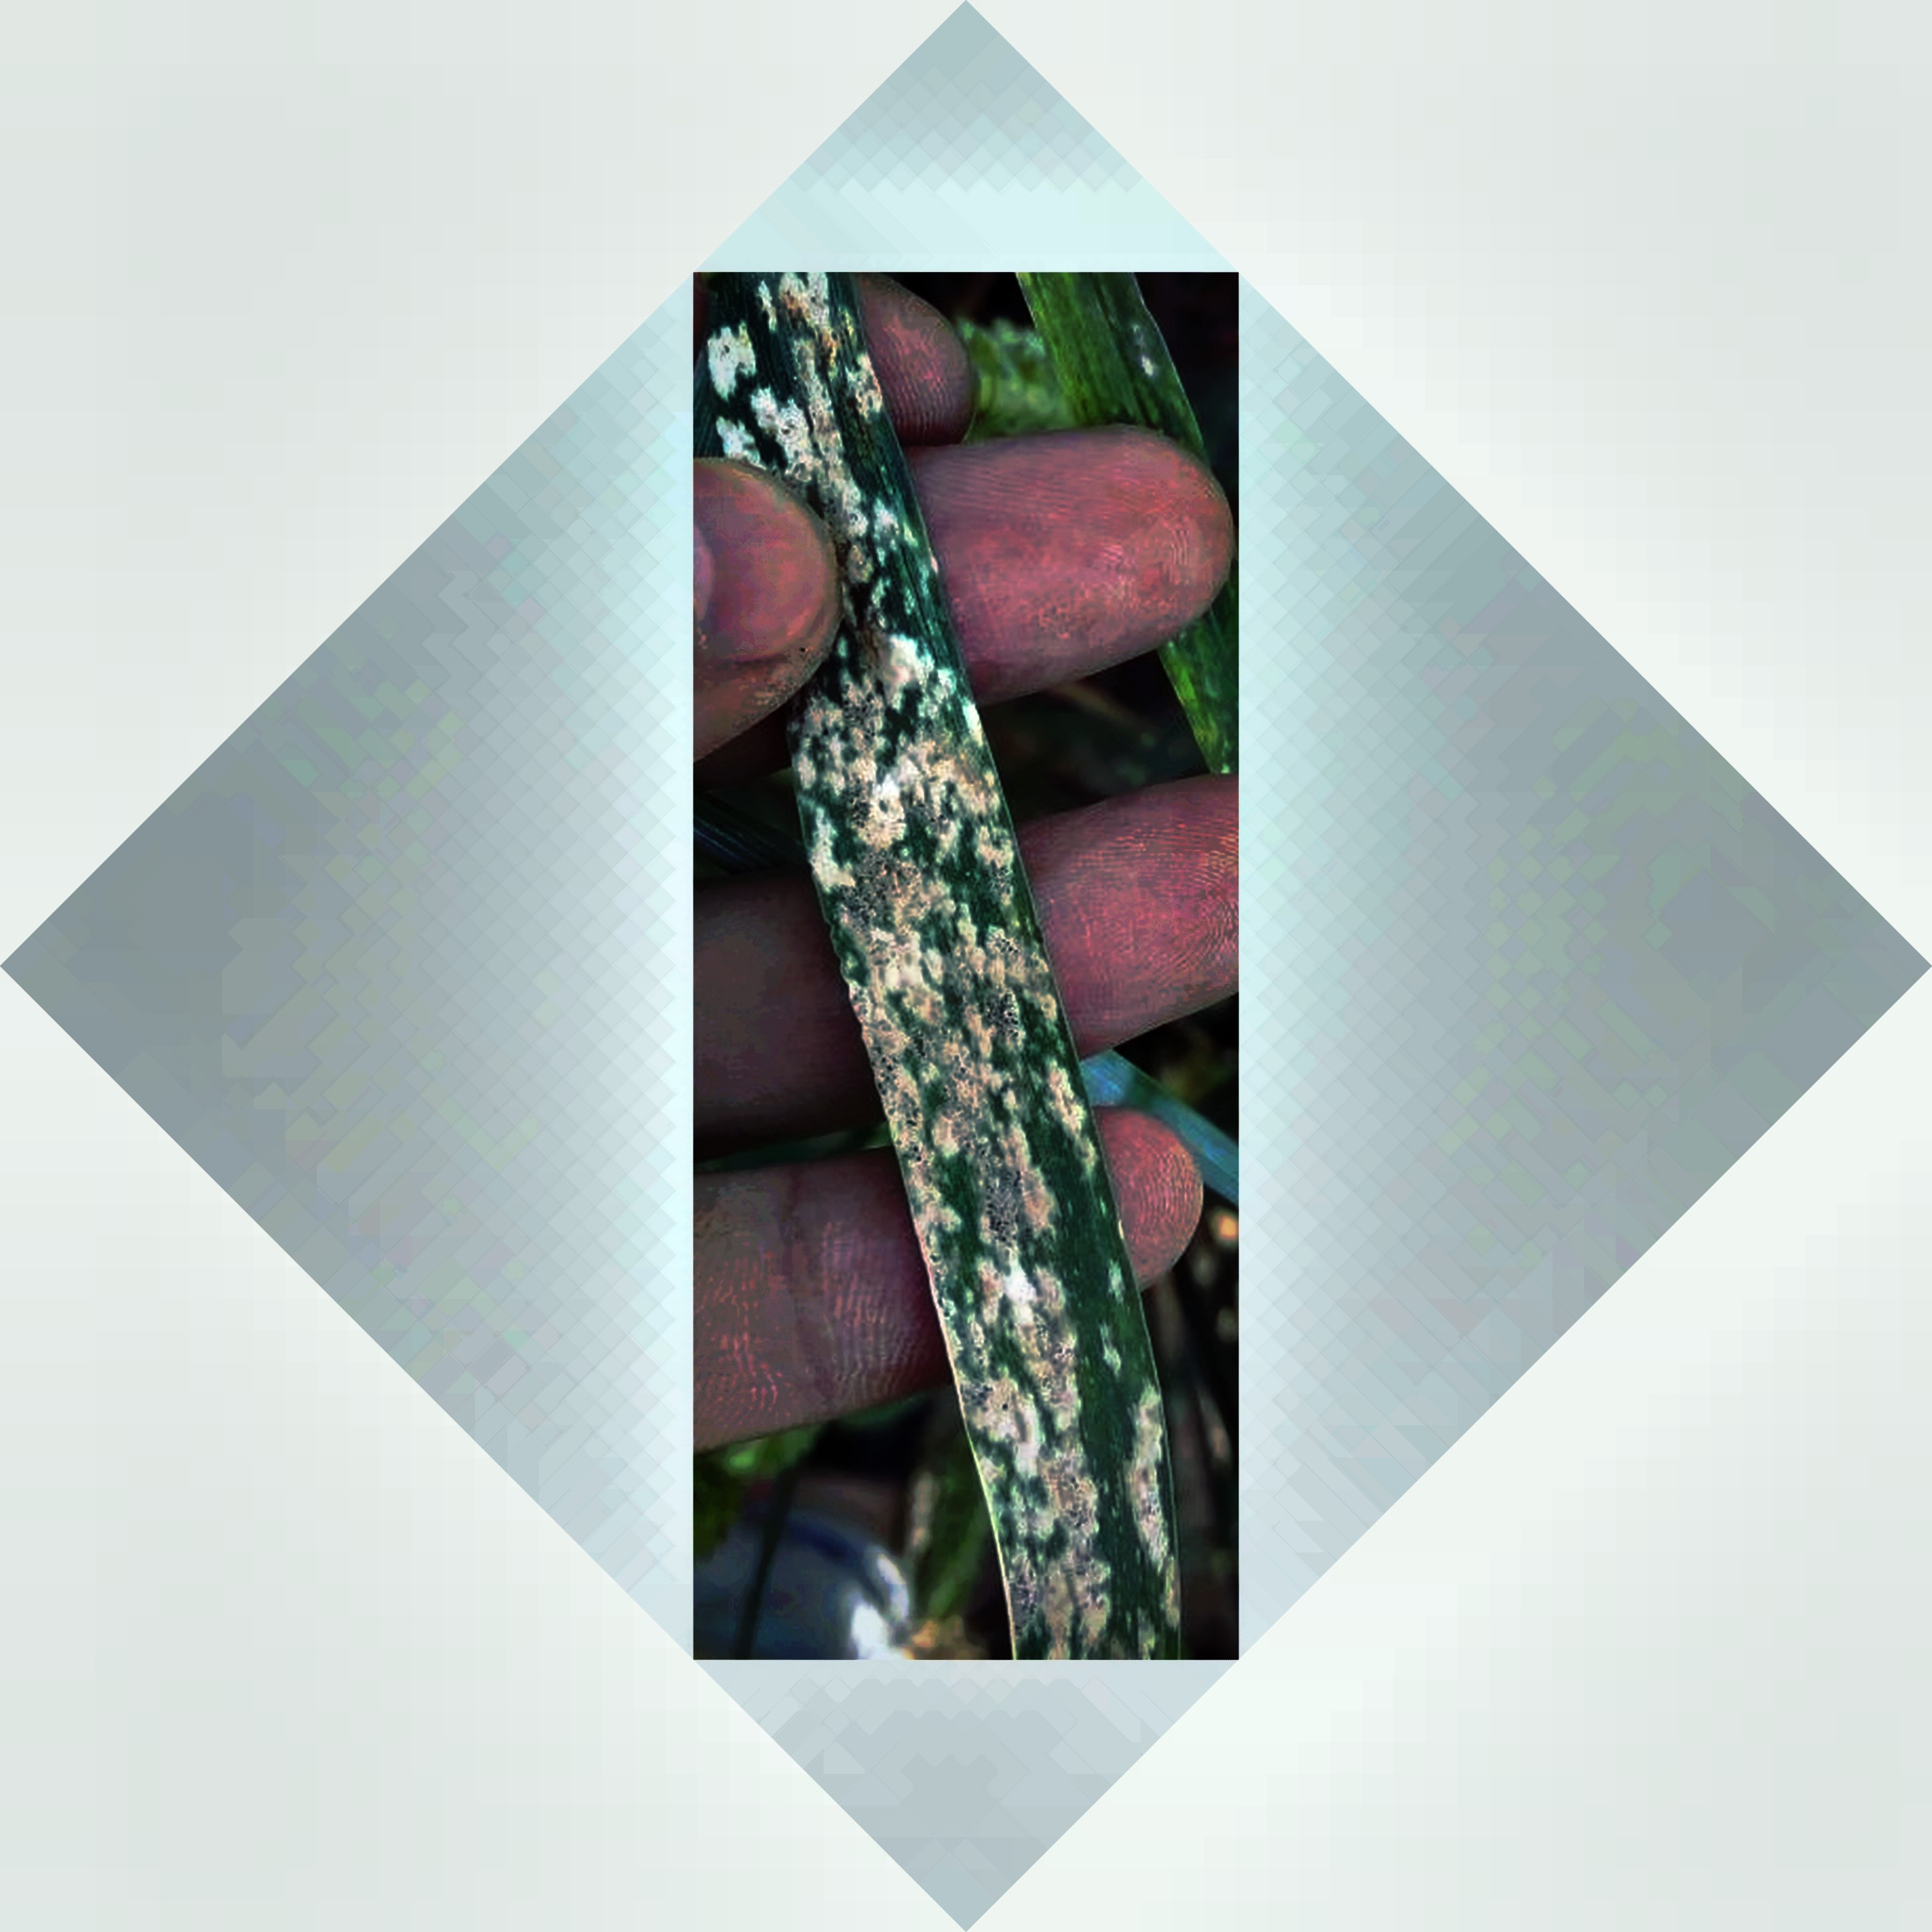Powdery Mildew: (801, 655, 1194, 1592)
